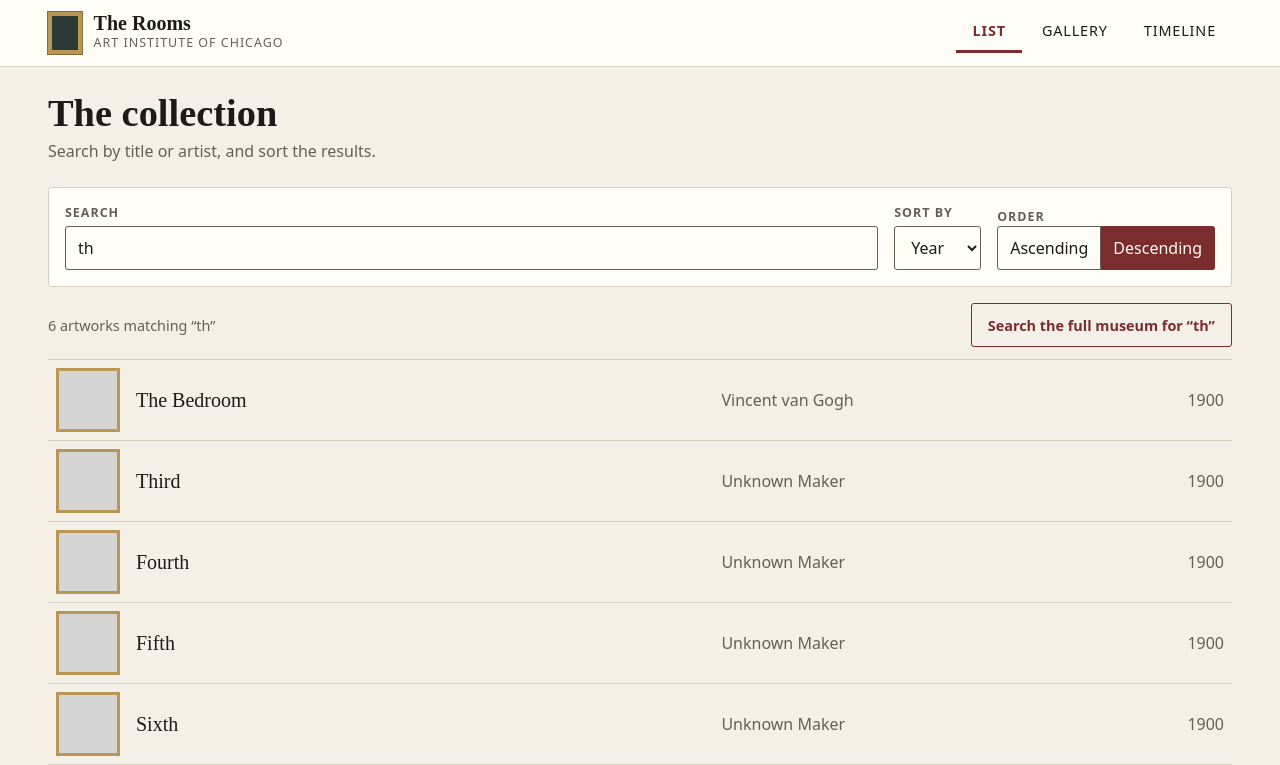
Test: DetailView › returns to the List with the same search and sort
Click the link "Third Unknown Maker 1900" at (88, 481), box [48, 442, 1232, 522]
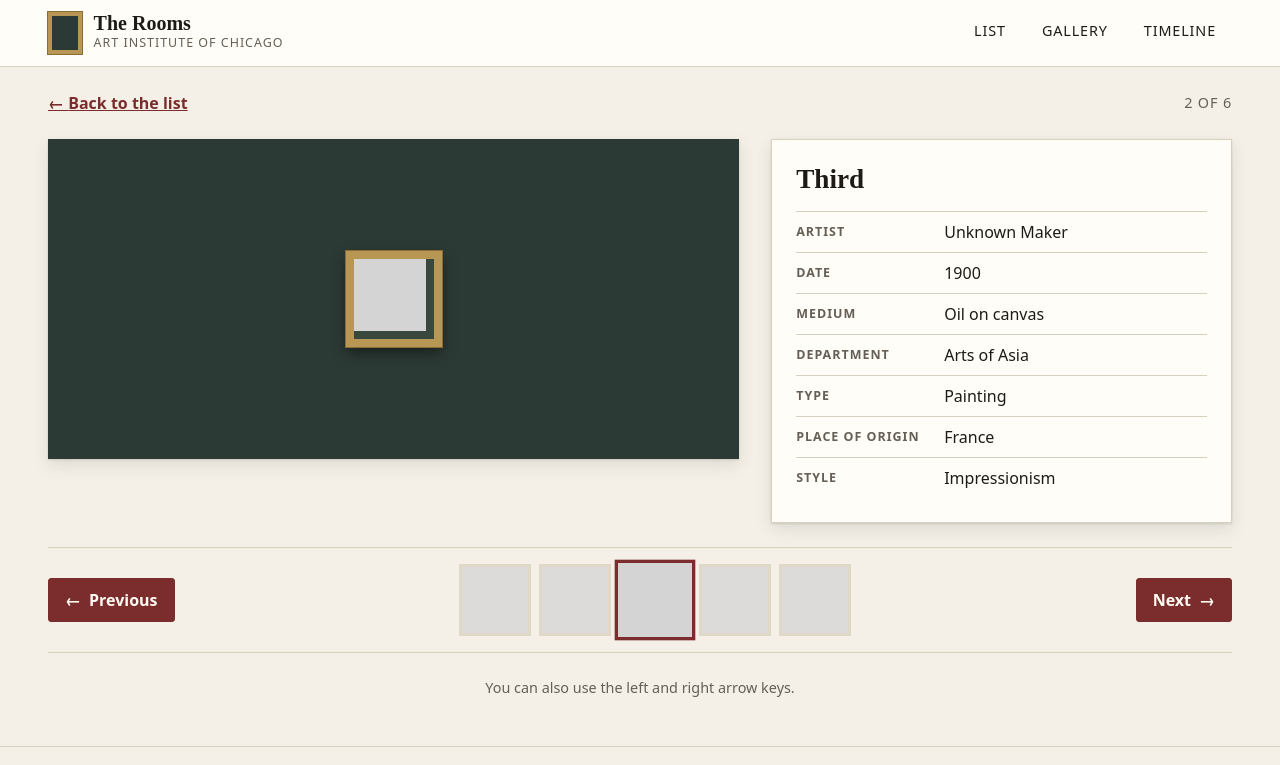
Click the link "← Back to the list" at (118, 103), box [48, 91, 188, 115]
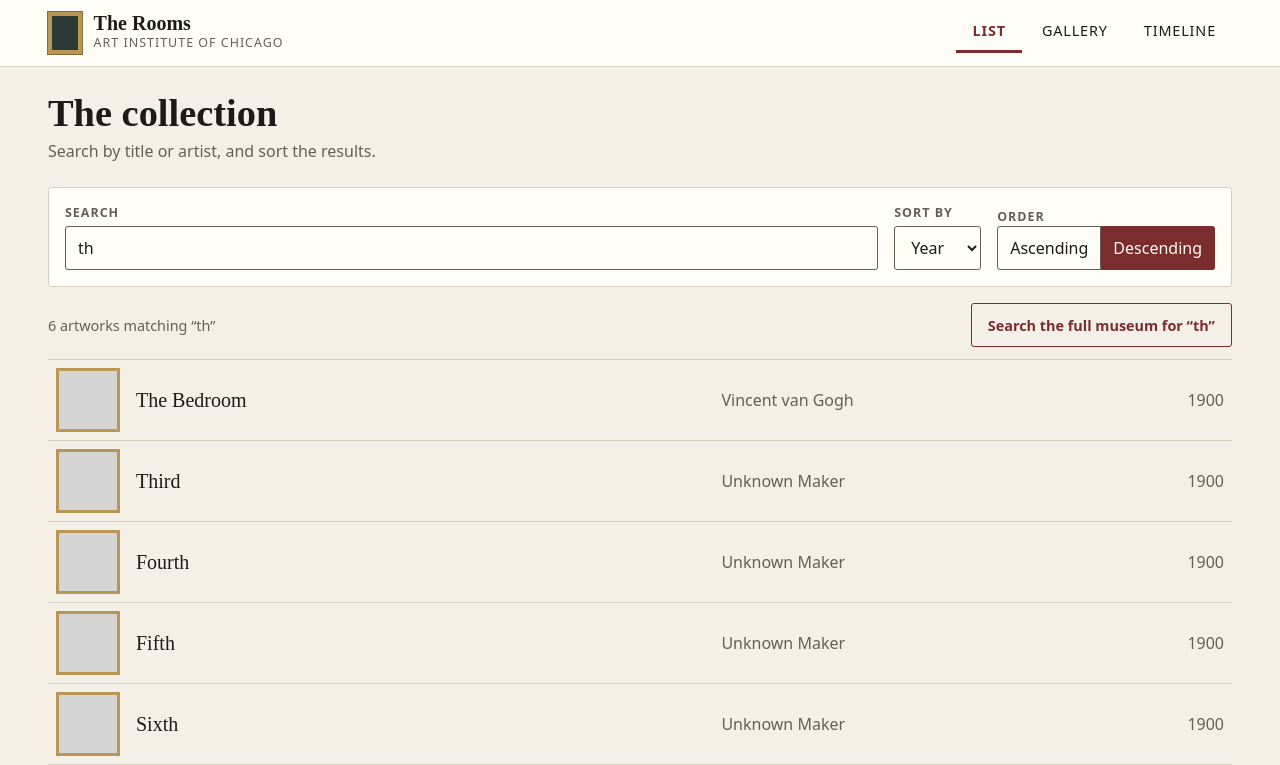
Expected: the search field labelled "Search" holds "th", [65, 226, 878, 270]
